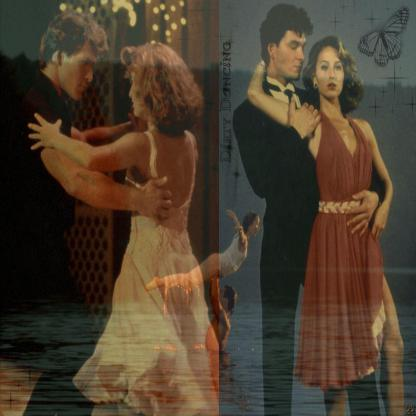face: (62, 40, 98, 103), (275, 27, 308, 81), (318, 49, 346, 99), (129, 64, 150, 119), (216, 289, 227, 308), (253, 217, 261, 239)
